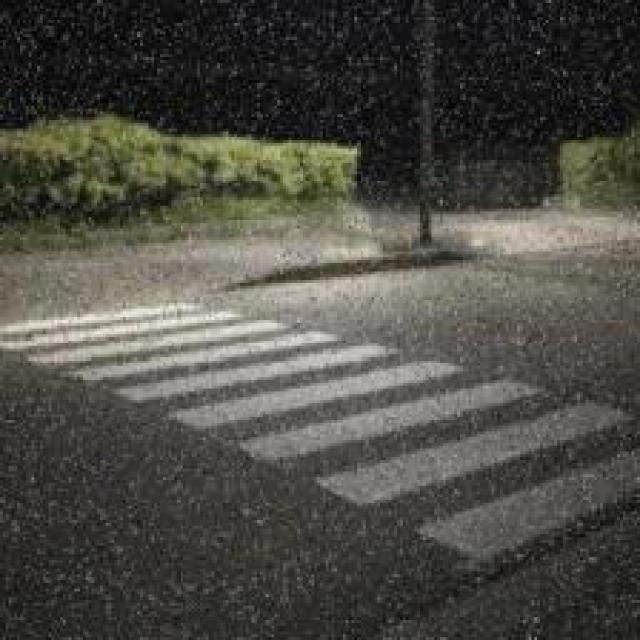walk-crossing: (6, 297, 617, 563)
